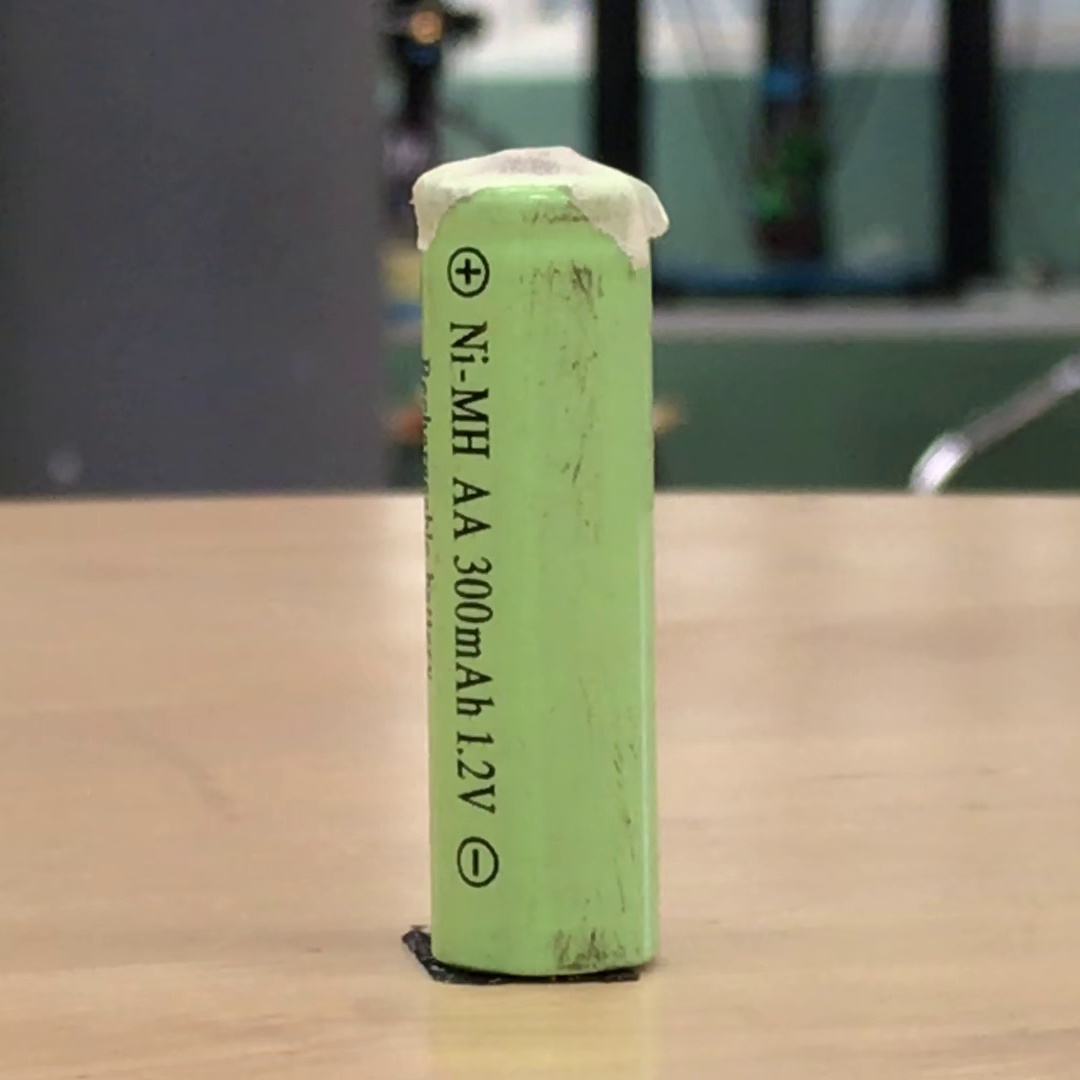keyword: (440, 311, 500, 458), (447, 722, 506, 824)
